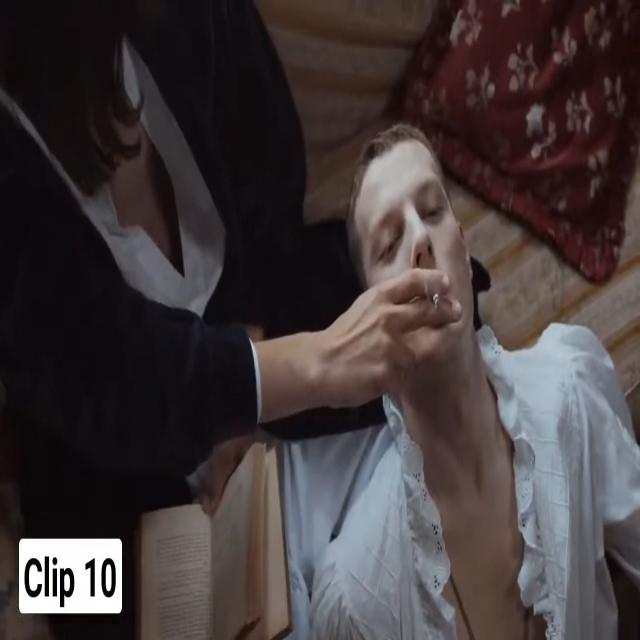Курение: (430, 284, 446, 314)
